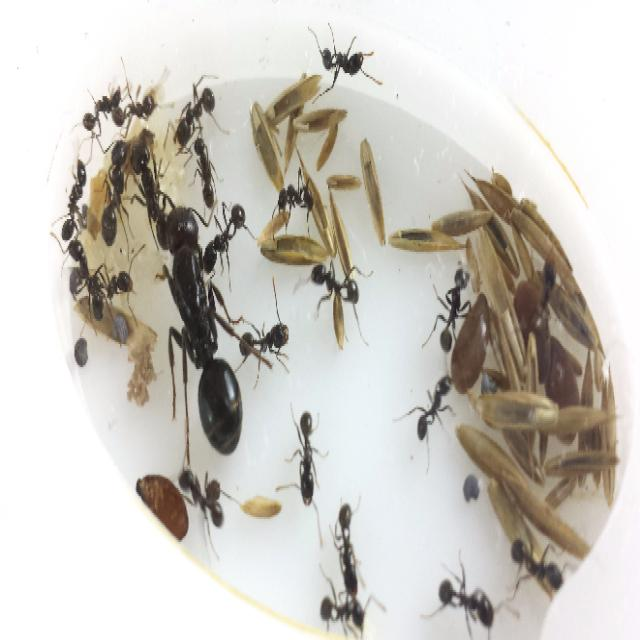ants: (154, 188, 248, 461), (429, 562, 498, 636), (506, 522, 566, 600), (59, 225, 106, 324), (177, 468, 234, 535), (411, 371, 458, 452), (200, 198, 249, 272), (290, 404, 324, 509), (242, 307, 296, 373), (98, 138, 128, 250), (435, 260, 471, 353), (166, 80, 219, 142), (316, 590, 378, 640), (54, 157, 87, 240), (97, 256, 137, 323), (333, 494, 361, 588), (273, 170, 319, 223), (316, 36, 368, 82), (77, 94, 122, 129), (198, 132, 212, 208)
